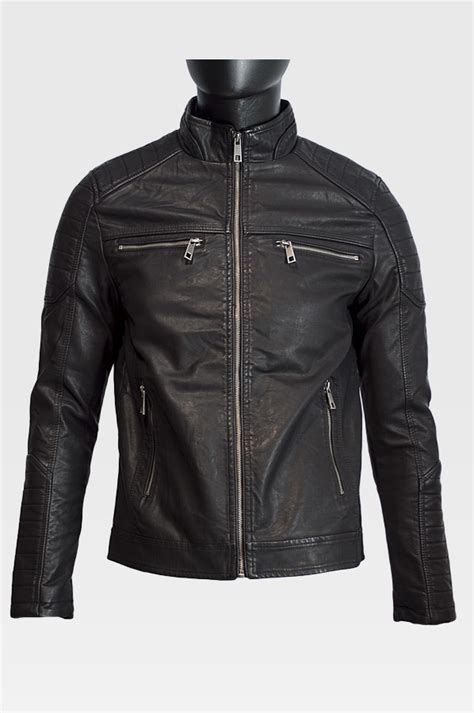cuero: (10, 93, 458, 626)
